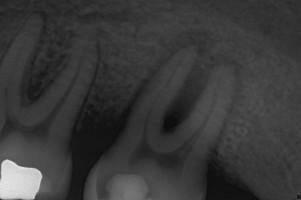Dental Caries: (116, 27, 243, 134)
Endo-Periodontal Lesion: (25, 66, 50, 102)
